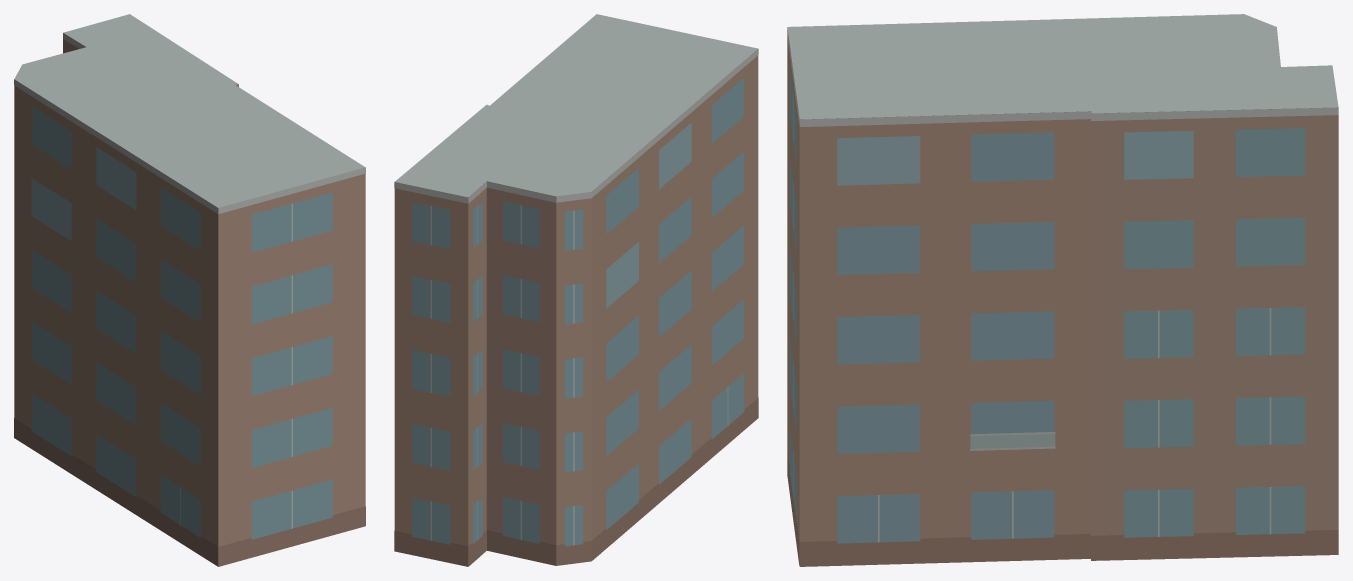
File: survey-upis-32727681.glb
3 views of the same model, side by side, from view 1: azimuth 30°, elevation 25°; view 2: azimuth 150°, elevation 25°; view 3: azimuth 270°, elevation 25° (orthographic). The views are drawn at different scales.
Parts seen in each view (by area): view 1: survey-upis-32727681.tmp; view 2: survey-upis-32727681.tmp; view 3: survey-upis-32727681.tmp.
Boxes of the visible parts, x1=… form: survey-upis-32727681.tmp: x1=14, y1=14, x2=365, y2=566; survey-upis-32727681.tmp: x1=394, y1=14, x2=758, y2=566; survey-upis-32727681.tmp: x1=787, y1=14, x2=1338, y2=566.
Size of the model in its own units: 7.19 by 14.2 by 15.87.
